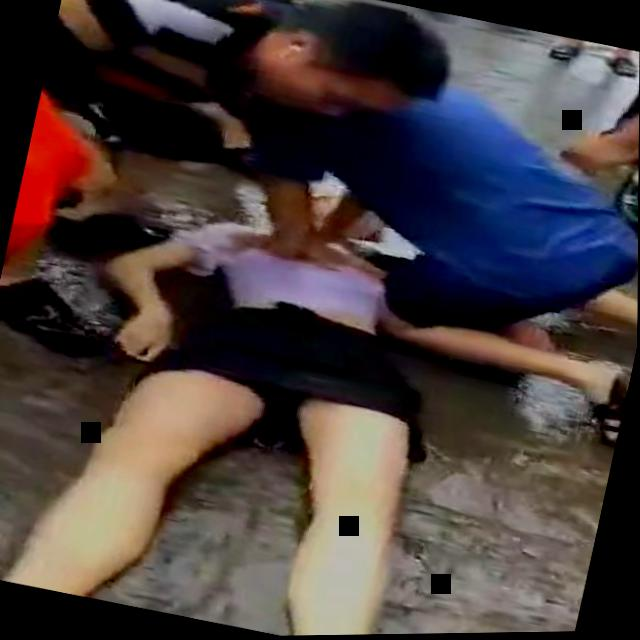Fall-Detected: (0, 118, 630, 640)
